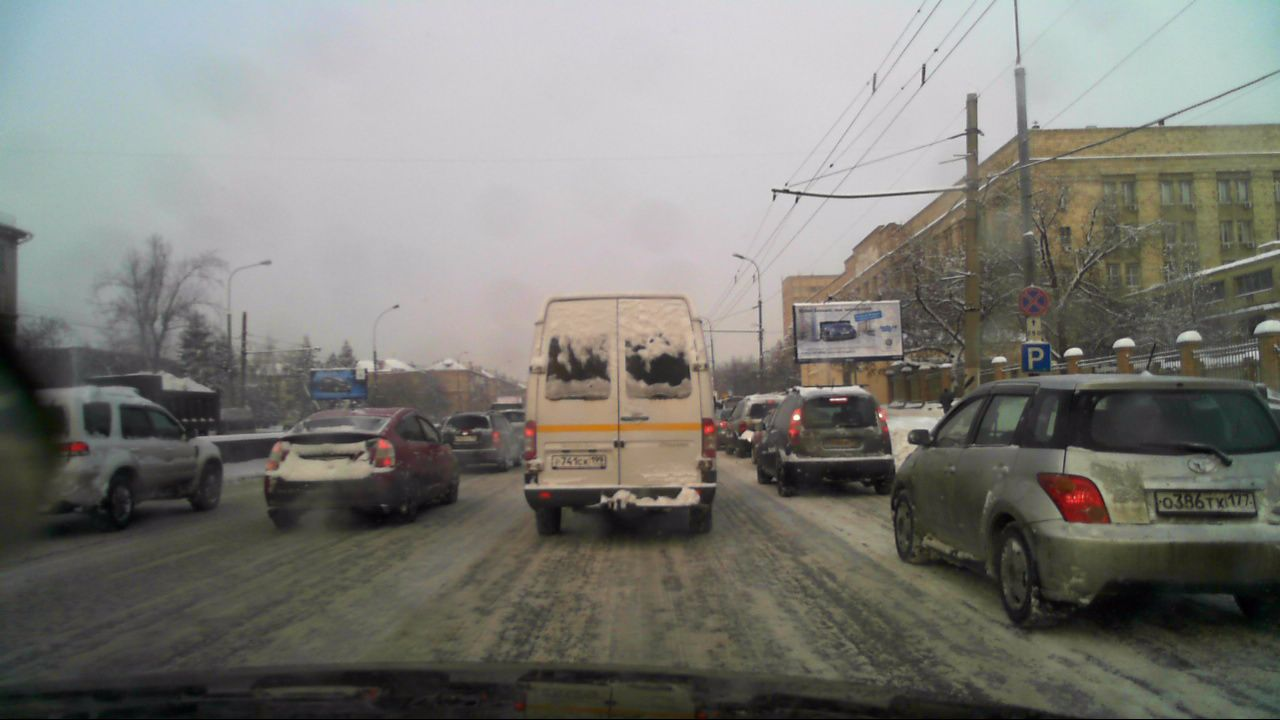No Parking: (1019, 280, 1049, 315)
